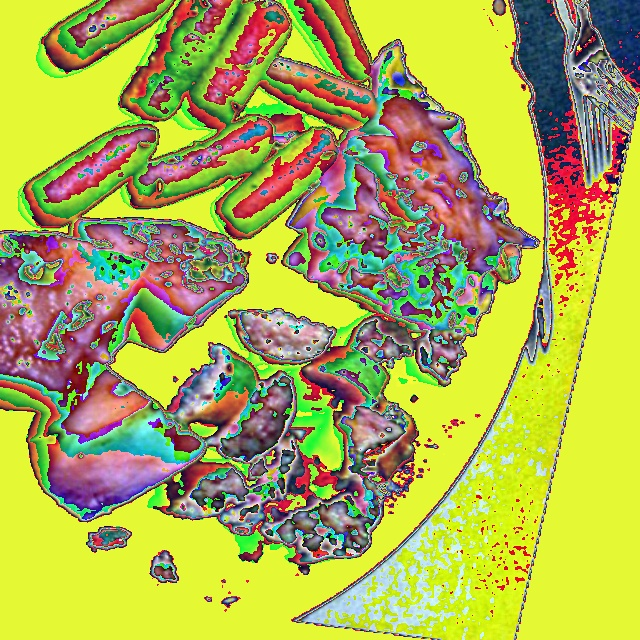background: (0, 0, 542, 565)
